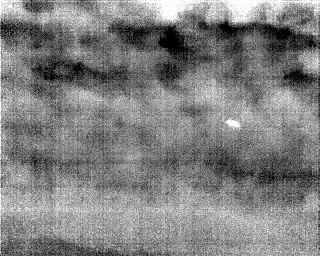BIRD: (225, 117, 243, 132)
